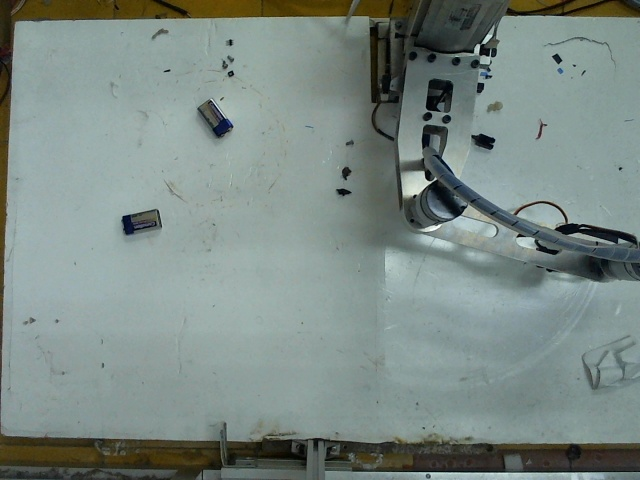battery: (192, 96, 232, 137), (118, 206, 162, 237)
